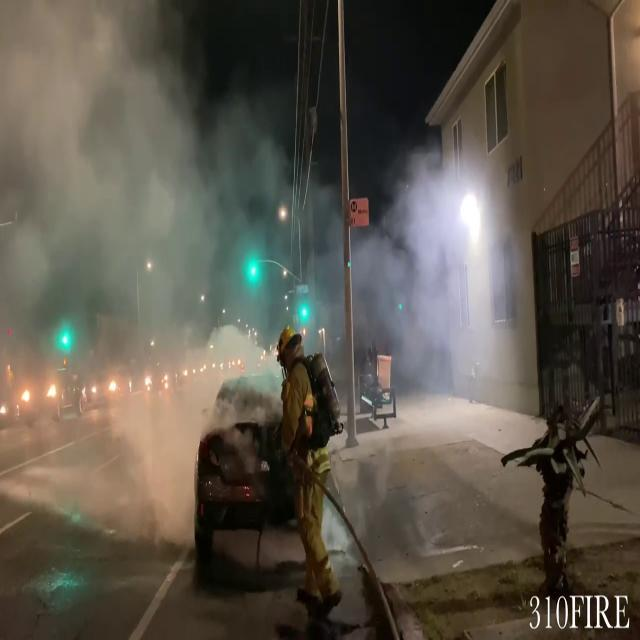Smoke: (0, 1, 270, 527), (376, 148, 516, 392)
